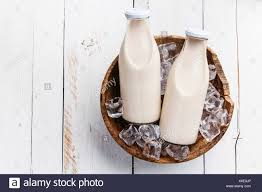milk: (167, 21, 211, 169), (110, 8, 158, 125)
